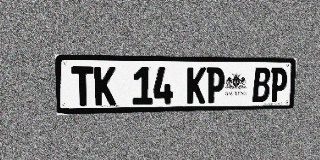1: (133, 67, 153, 105)
4: (153, 67, 173, 104)
B: (252, 67, 271, 102)
K: (94, 66, 116, 106), (186, 67, 206, 104)
P: (206, 67, 225, 103), (269, 68, 288, 102)
T: (71, 66, 94, 106)
